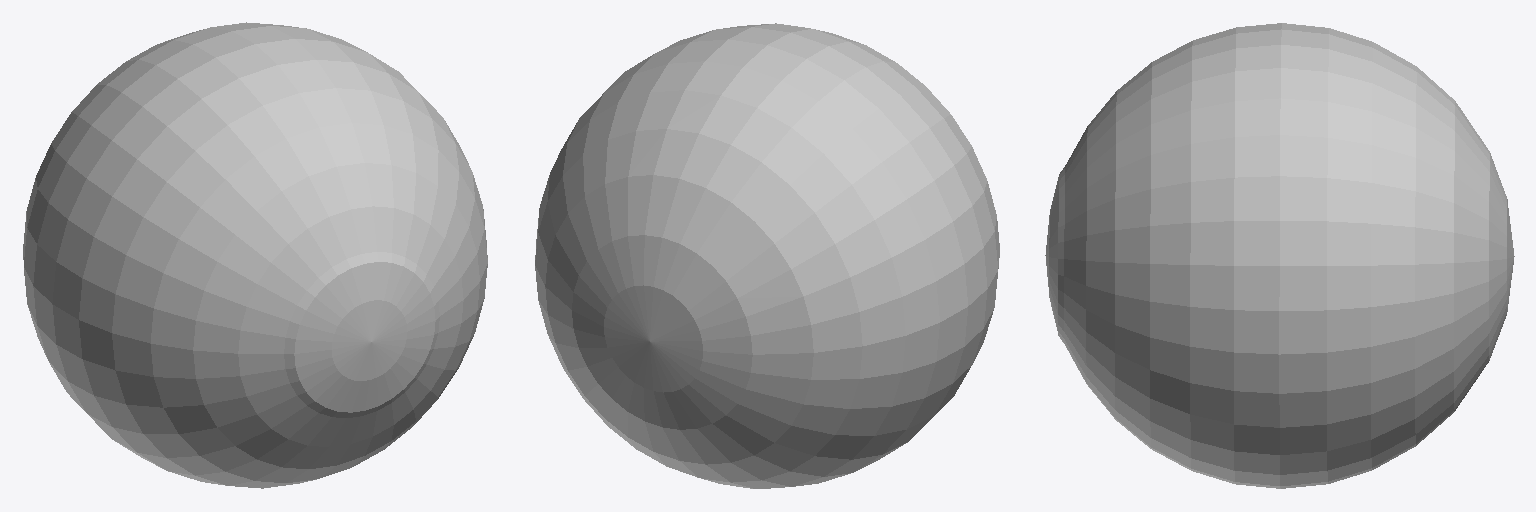
File: eyeball_obj.obj
3 views of the same model, side by side, from view 1: azimuth 30°, elevation 25°; view 2: azimuth 150°, elevation 25°; view 3: azimuth 270°, elevation 25° (orthographic).
Parts seen in each view (by area): view 1: eyeball_1_eye_1; view 2: eyeball_1_eye_1; view 3: eyeball_1_eye_1.
Part boxes in pixels (bbox=[...]): eyeball_1_eye_1: bbox=[23, 22, 487, 488]; eyeball_1_eye_1: bbox=[535, 23, 999, 488]; eyeball_1_eye_1: bbox=[1045, 23, 1514, 488].
Size of the model in its own units: 3.91 by 3.91 by 3.93.